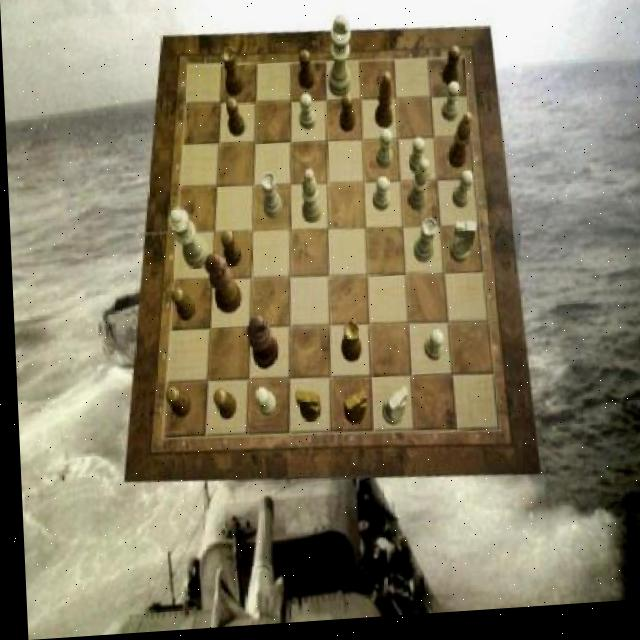bishop: (445, 117, 473, 174), (371, 78, 393, 135)
black-bishop: (244, 317, 276, 373)
black-king: (291, 392, 317, 427), (339, 394, 363, 430)
black-knight: (169, 289, 194, 324), (441, 53, 462, 94), (163, 388, 189, 421), (224, 101, 244, 141), (211, 390, 235, 423), (220, 232, 241, 269), (296, 55, 314, 96), (337, 98, 354, 138)
black-pawn: (202, 253, 240, 317)
black-queen: (221, 50, 243, 101), (338, 325, 359, 368)
black-rook: (405, 165, 430, 218), (299, 173, 321, 228)
white-bishop: (326, 18, 353, 101)
white-king: (448, 226, 476, 270), (377, 392, 406, 431)
white-knight: (448, 175, 472, 215), (439, 87, 460, 128), (373, 135, 392, 174), (406, 143, 425, 180), (420, 335, 441, 367), (370, 182, 389, 217), (298, 96, 315, 134), (251, 391, 273, 420)
white-pawn: (166, 208, 208, 272)
white-queen: (410, 224, 436, 269), (261, 175, 282, 222)
